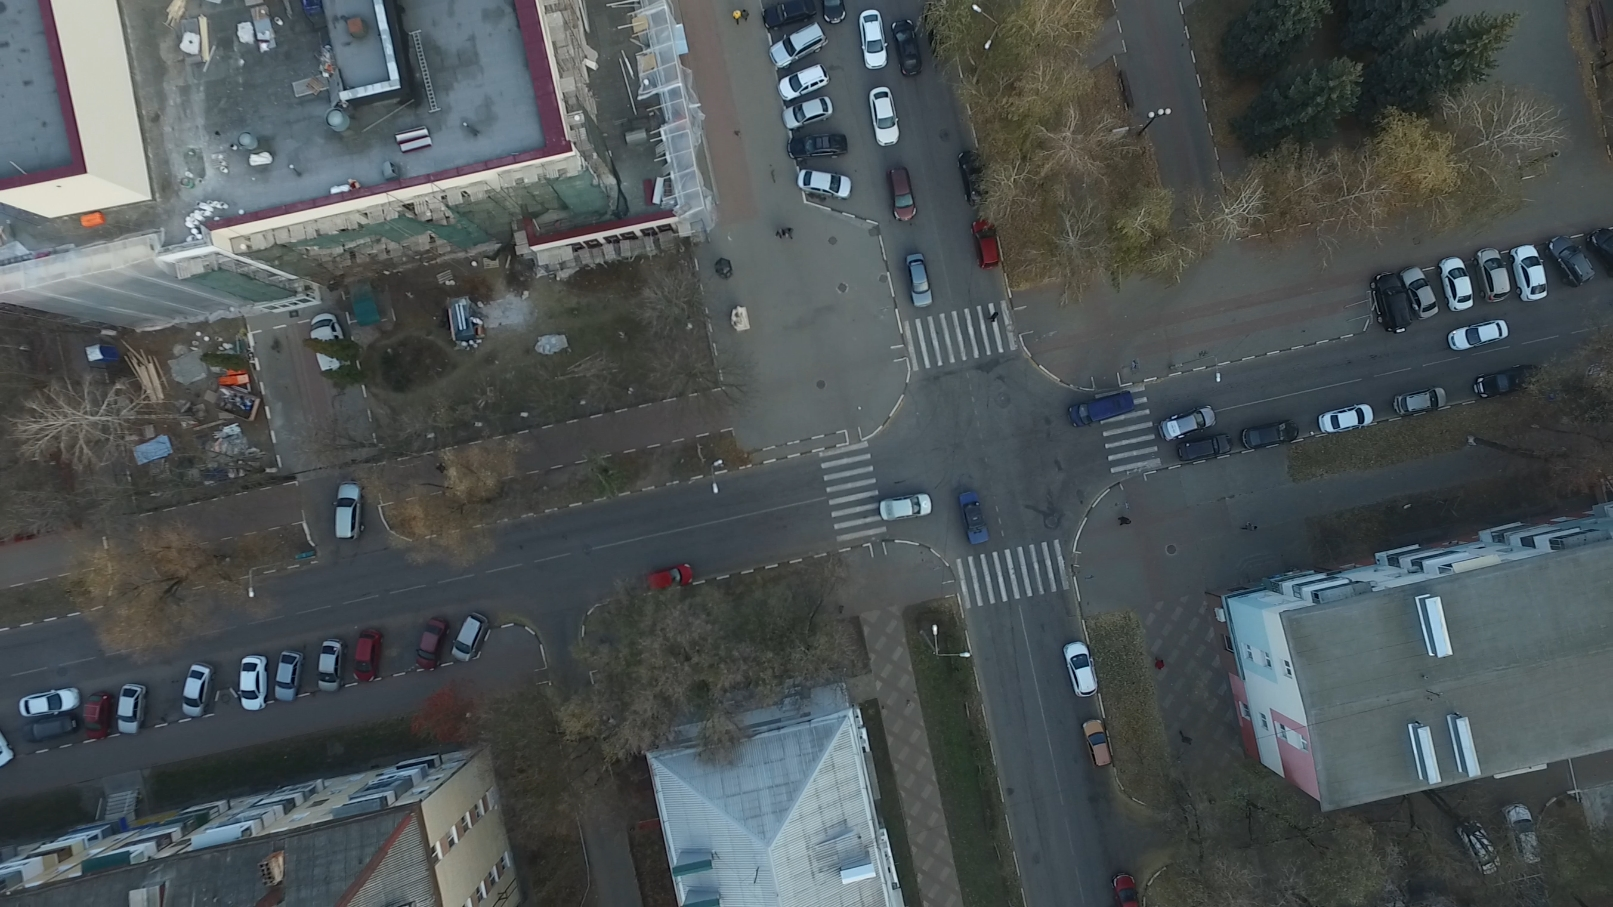car: (1502, 801, 1551, 872), (304, 307, 352, 374), (768, 22, 828, 70), (1368, 274, 1412, 337), (1547, 237, 1596, 290), (1459, 818, 1506, 873), (1062, 641, 1105, 699), (1157, 400, 1215, 441), (1068, 393, 1133, 430), (331, 477, 367, 543), (1471, 365, 1539, 399), (20, 686, 83, 720), (1447, 315, 1509, 349), (773, 64, 831, 101), (955, 152, 994, 206), (1400, 262, 1438, 318), (1439, 255, 1475, 313), (955, 492, 994, 545), (1511, 243, 1545, 302), (1475, 246, 1510, 303), (235, 652, 267, 714), (857, 10, 890, 72), (452, 614, 492, 663), (867, 86, 901, 146), (179, 663, 216, 717), (753, 1, 815, 32), (79, 686, 116, 736), (903, 252, 937, 308), (273, 649, 304, 710), (412, 614, 446, 667), (1239, 420, 1299, 450), (885, 165, 917, 221), (967, 217, 1000, 271), (794, 171, 854, 200), (1079, 722, 1116, 771), (1317, 401, 1373, 433), (877, 491, 931, 524), (890, 27, 924, 78), (784, 95, 835, 128), (1391, 384, 1446, 415), (794, 128, 852, 157), (1175, 434, 1232, 463), (645, 566, 698, 596), (115, 684, 146, 733), (357, 628, 382, 681), (319, 637, 342, 693), (1593, 220, 1613, 275), (1111, 869, 1138, 907), (809, 1, 841, 27), (1, 723, 18, 767)
